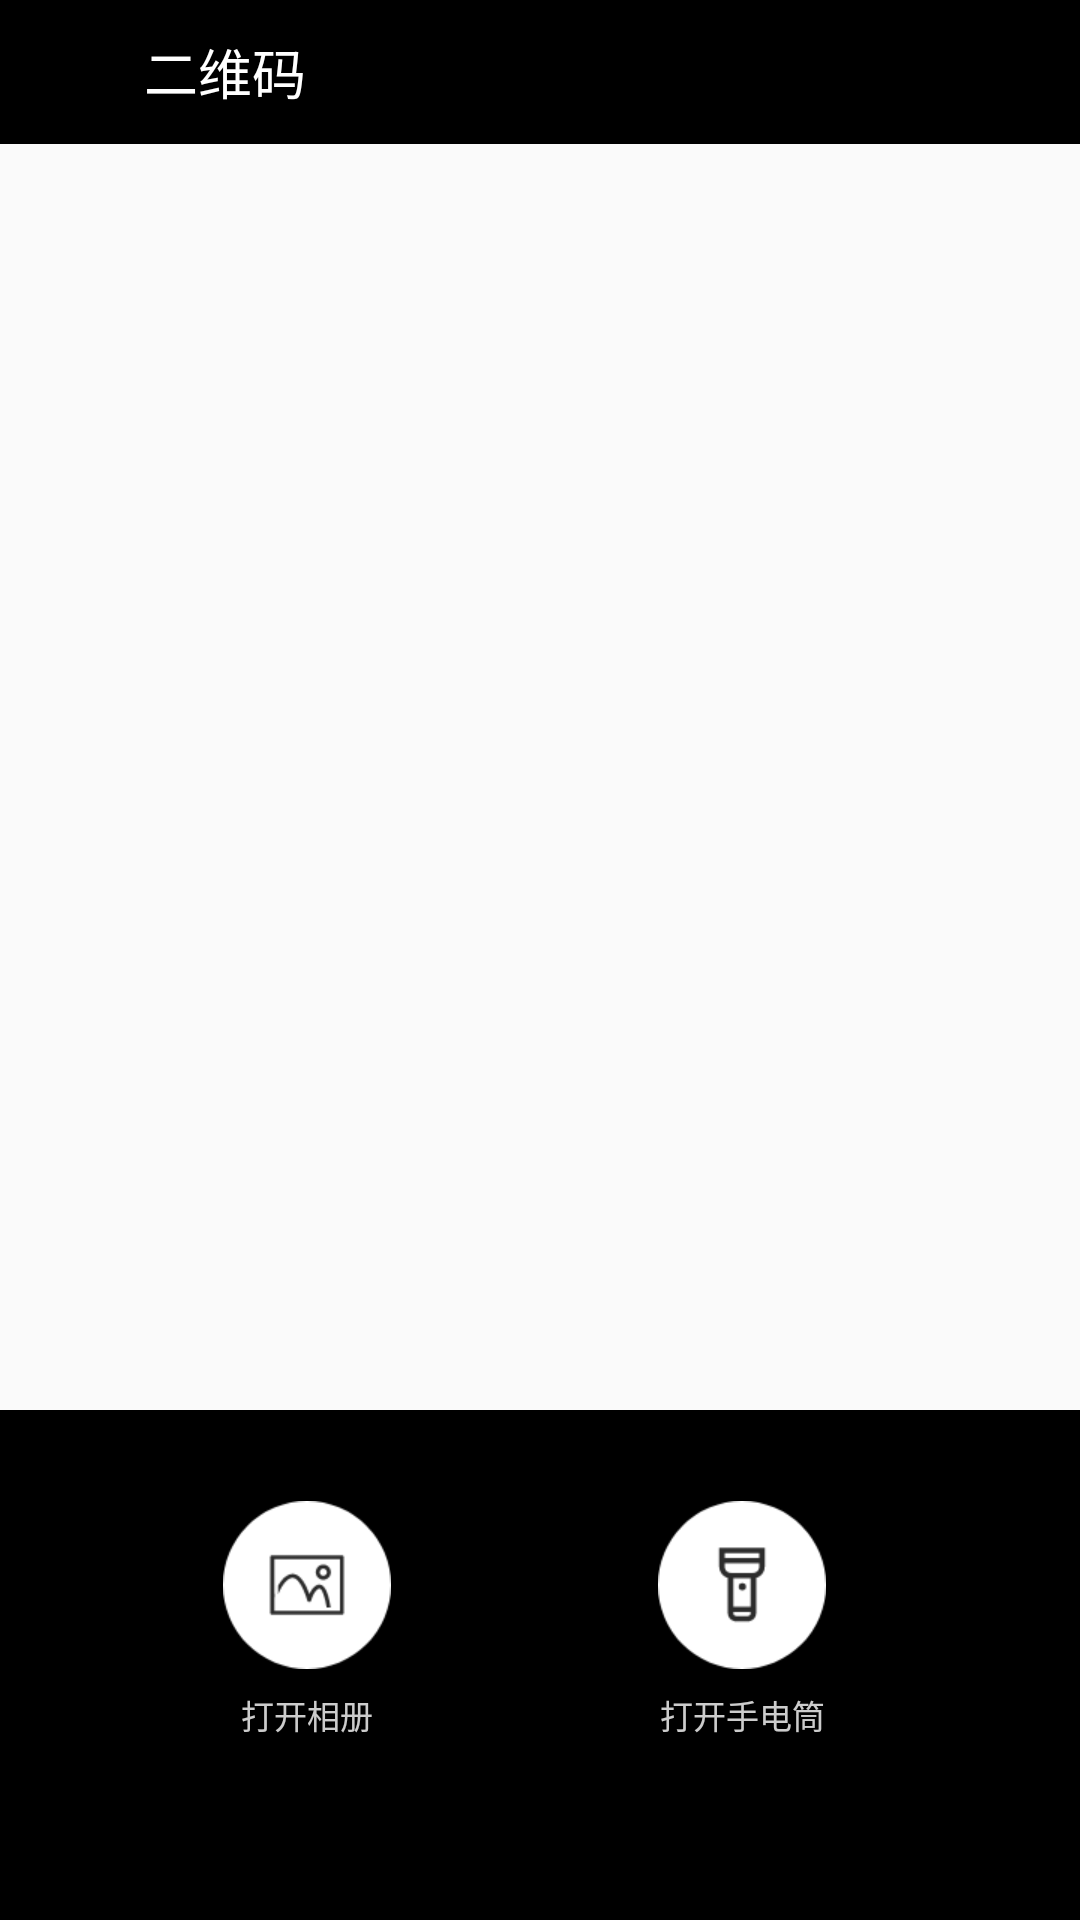

Screen size 1080 x 1920. Icon name, then its box in pixels as detection(x1, y1, x2, y2):
flash: detection(718, 1547, 766, 1623)
scan picture: detection(269, 1554, 345, 1616)
